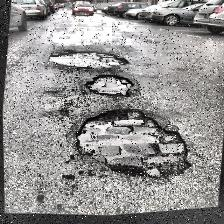pothole: (65, 97, 197, 193), (46, 43, 130, 77), (82, 72, 136, 102)
